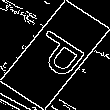P_SE: (20, 25, 90, 85)
